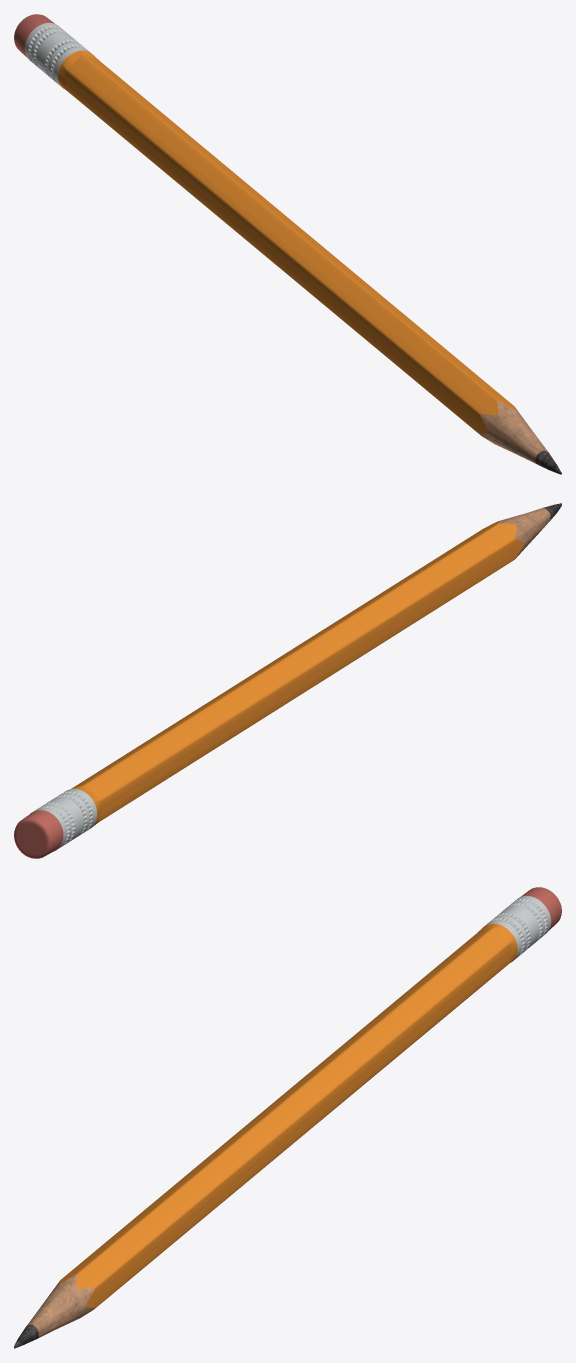
Rendered from Graphite Pencil Lead.fbx.
3 renders of one model, top to bottom at view 1: azimuth 30°, elevation 25°; view 2: azimuth 150°, elevation 25°; view 3: azimuth 330°, elevation 25°, orthographic.
Parts seen in each view (by area): view 1: Pencil_002_Pencil_0; view 2: Pencil_002_Pencil_0; view 3: Pencil_002_Pencil_0.
Boxes of the visible parts, bbox=[...] form: Pencil_002_Pencil_0: bbox=[14, 14, 561, 474]; Pencil_002_Pencil_0: bbox=[14, 503, 561, 858]; Pencil_002_Pencil_0: bbox=[14, 887, 561, 1348].
Size of the model in its own units: 63.24 by 134 by 1486.
Materials: 1 (1 with a texture image).
